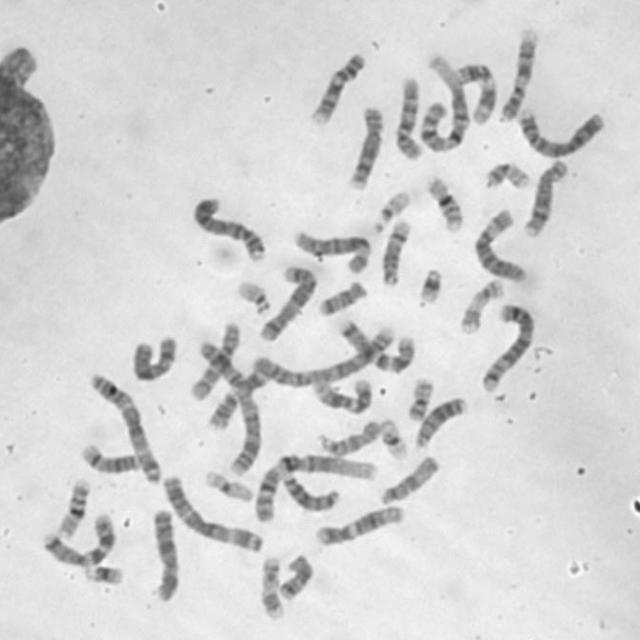A1: (249, 450, 380, 522), (416, 49, 473, 154)
A2: (248, 320, 398, 390), (194, 336, 265, 476)
A3: (87, 370, 164, 486), (160, 471, 264, 554)
B4: (188, 193, 268, 262), (513, 103, 607, 160)
B5: (477, 299, 538, 393), (255, 260, 320, 344)
C10: (186, 317, 244, 402), (390, 70, 426, 161)
C11: (205, 362, 274, 431), (451, 58, 498, 126)
C12: (312, 501, 406, 548), (308, 374, 372, 416)
C6: (470, 206, 529, 284), (289, 226, 372, 274)
C7: (40, 508, 120, 570), (334, 314, 416, 374)
C8: (519, 156, 570, 238), (344, 100, 386, 191)
C9: (308, 48, 367, 126), (496, 24, 540, 123)
D13: (412, 392, 470, 449), (278, 468, 343, 512)
D14: (376, 213, 414, 288), (75, 439, 144, 475)
D15: (378, 451, 442, 506), (315, 414, 384, 457)
E16: (420, 168, 466, 234), (52, 475, 92, 540)
E17: (456, 274, 506, 336), (256, 551, 288, 623)
E18: (273, 547, 316, 602), (313, 275, 369, 317)
F19: (199, 466, 256, 504), (376, 413, 411, 462)
F20: (481, 156, 533, 192), (403, 372, 438, 422)
G21: (414, 263, 444, 306), (79, 560, 126, 587)
G22: (369, 185, 414, 232), (232, 274, 274, 316)
X: (147, 507, 182, 603), (128, 330, 181, 384)
